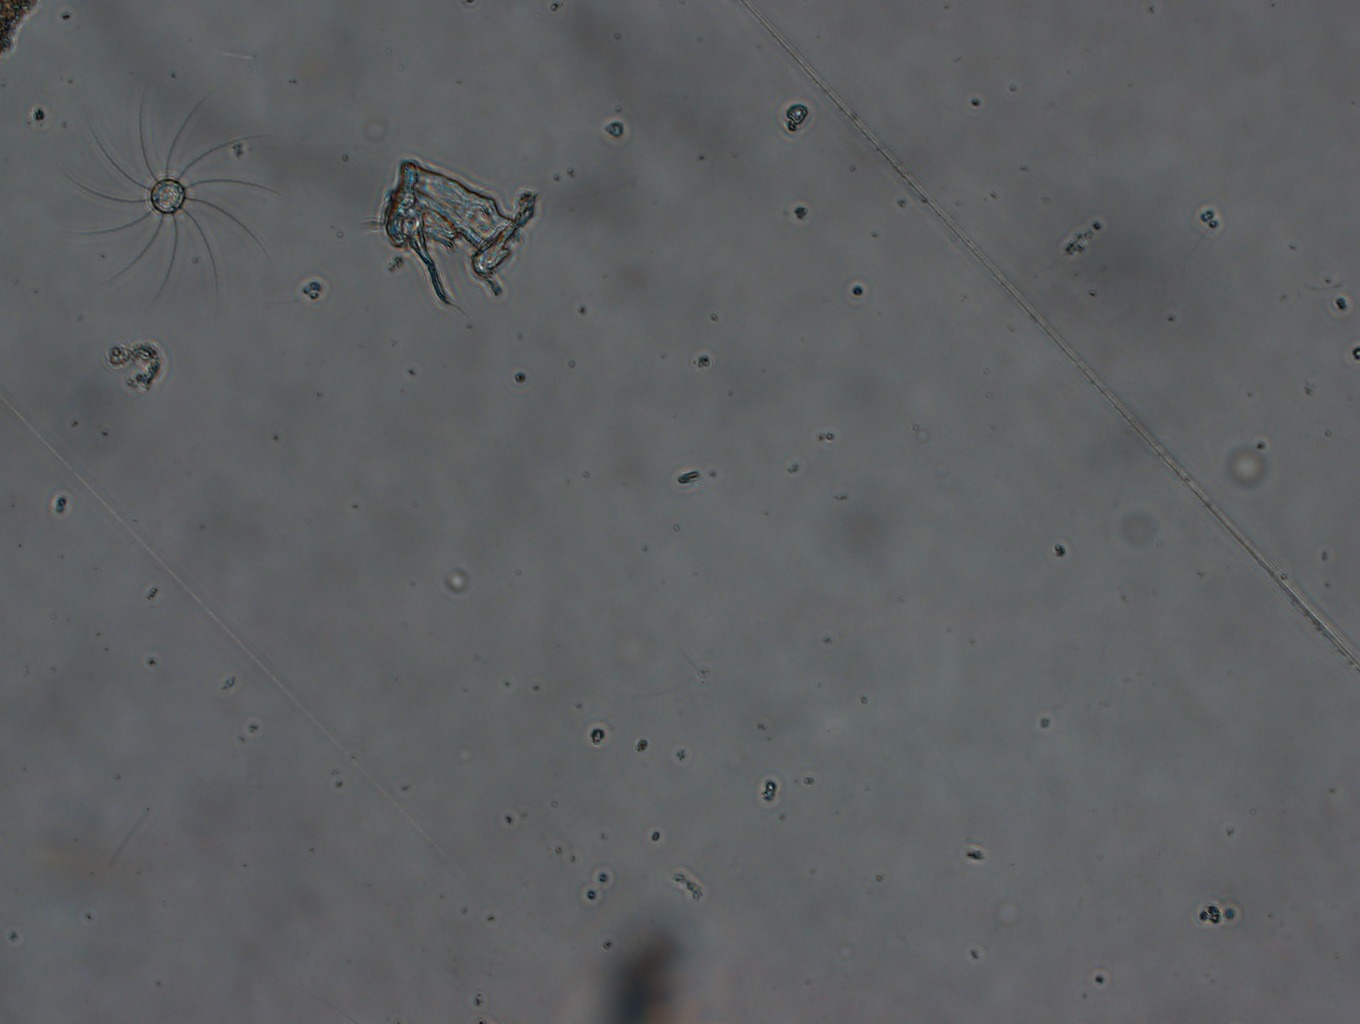bacteriastrum: (84, 114, 299, 315)
